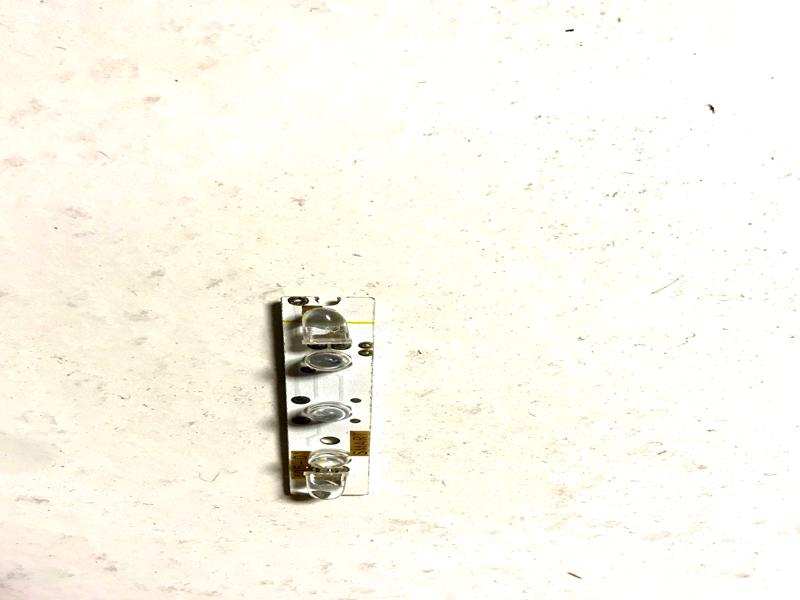LED: (294, 304, 355, 350), (301, 350, 354, 374), (306, 472, 348, 501), (303, 401, 354, 424), (306, 448, 353, 470)
